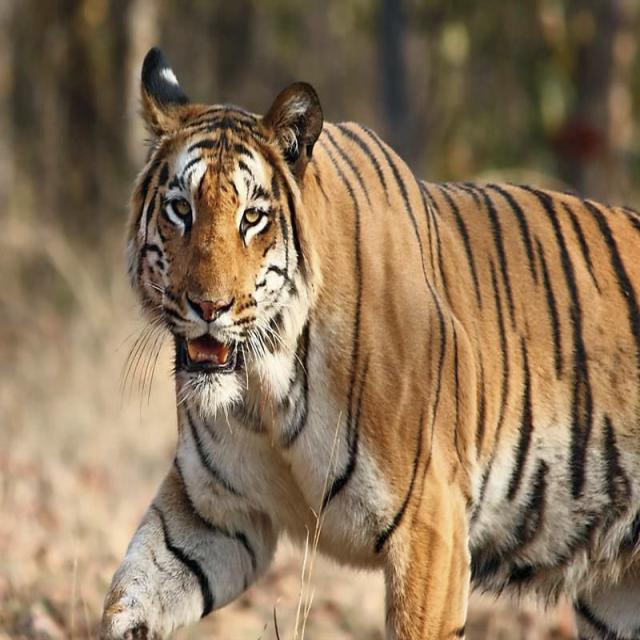tiger: (103, 47, 640, 639)
